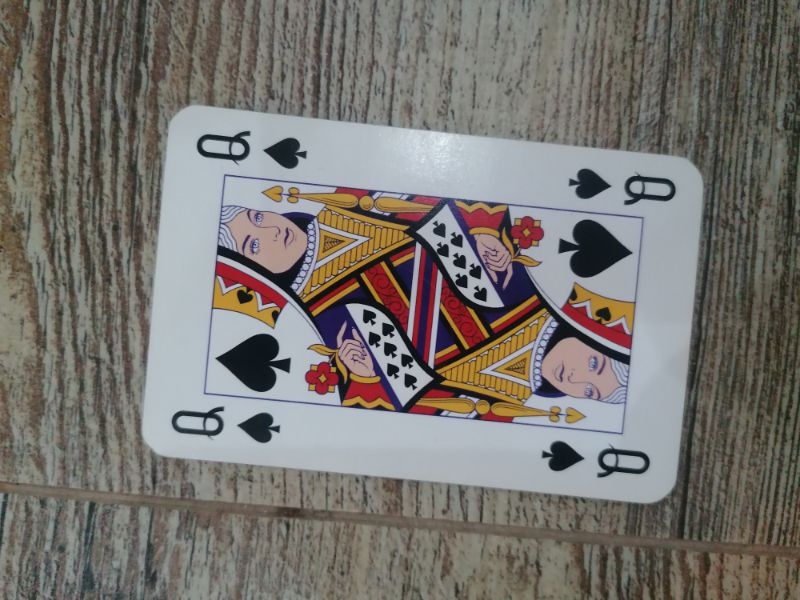Qs: (193, 126, 311, 177), (538, 434, 653, 484), (167, 400, 285, 448), (564, 164, 678, 209)
